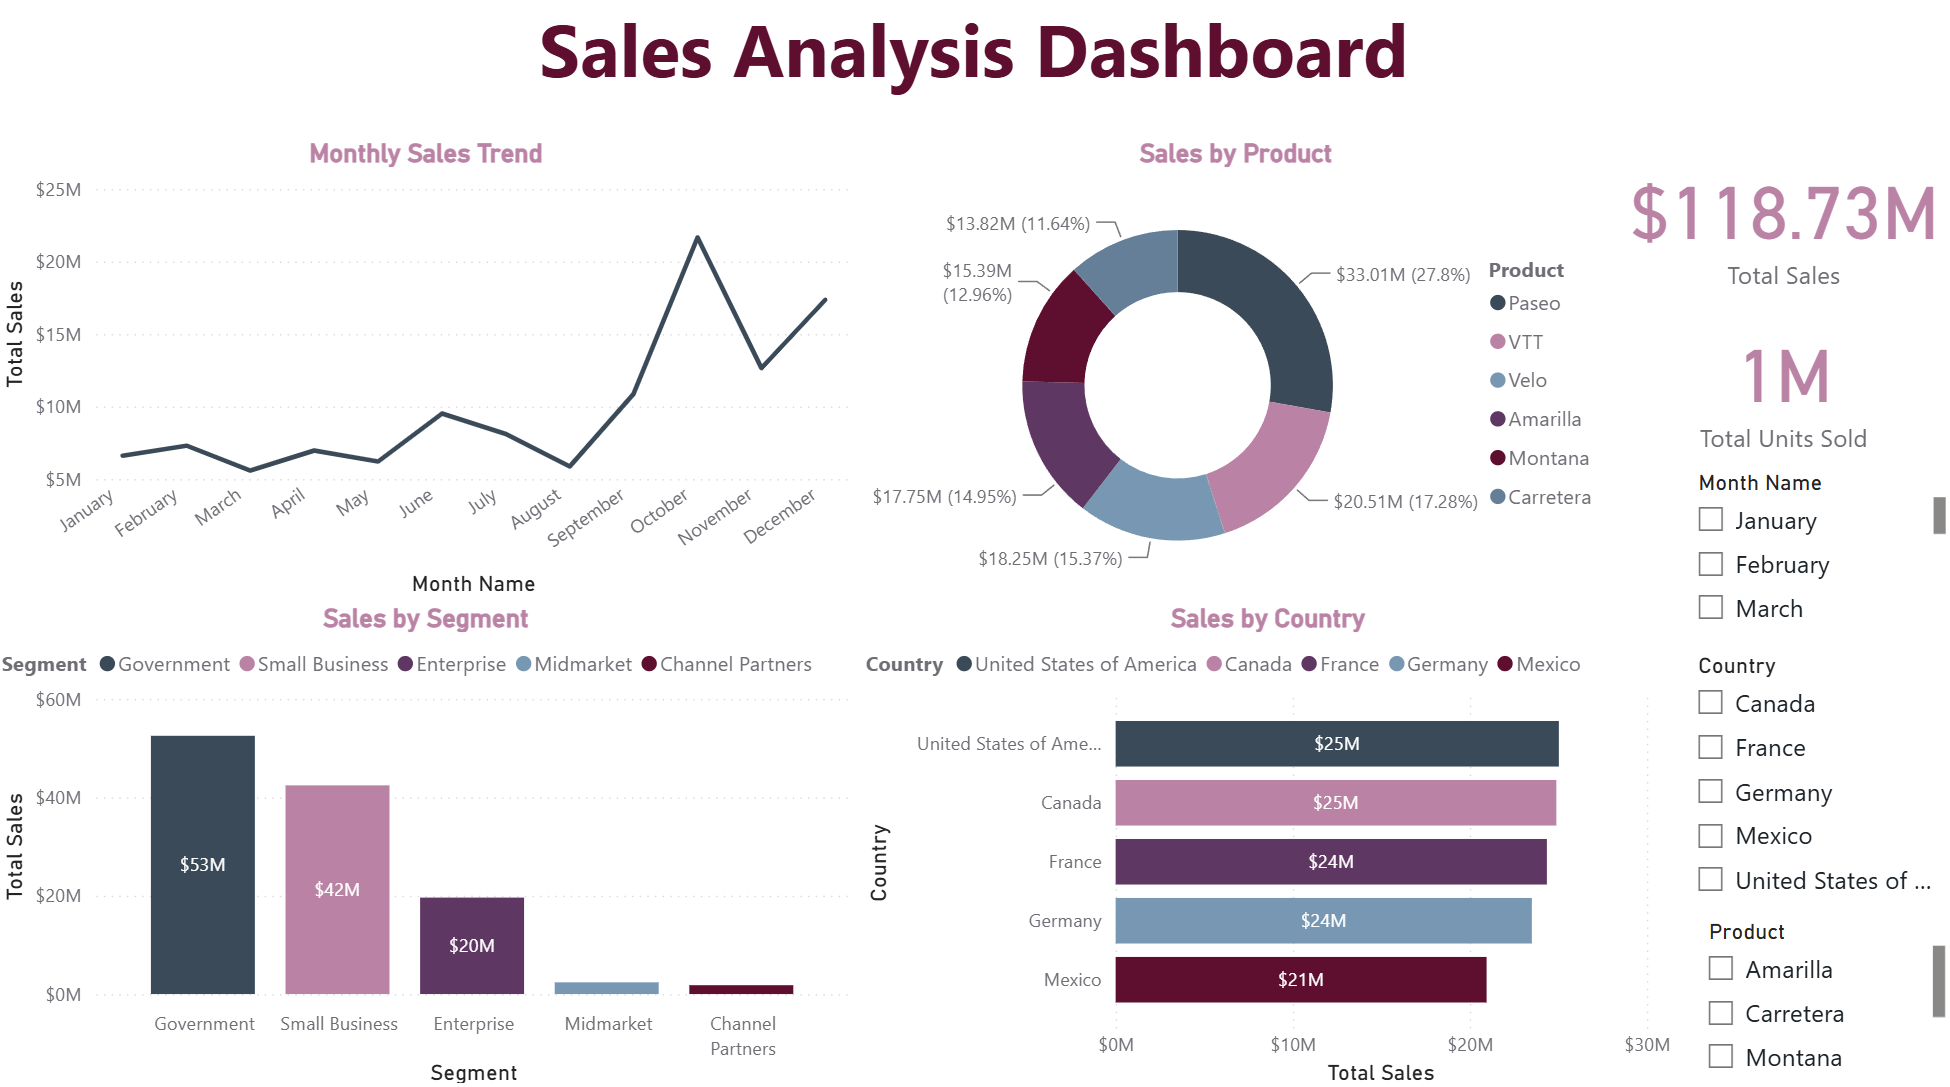

The dashboard page shown, as its layout file describes it:
{"tool":"powerbi","page":{"name":"Sales Analysis","canvas":[1280,720],"ordinal":1},"visuals":[{"type":"columnChart","title":"Sales by Segment","fields":{"Category":["Dim_Segment.Segment"],"Series":["Dim_Segment.Segment"],"Y":["Measures (2).Total Sales"]},"box":[0,400.8,564.5,319.5],"z":0},{"type":"barChart","title":"Sales by Country","fields":{"Category":["Dim_Country.Country"],"Series":["Dim_Country.Country"],"Y":["Measures (2).Total Sales"]},"box":[564.5,400.8,536.1,319.5],"z":1000},{"type":"lineChart","title":"Monthly Sales Trend","fields":{"Category":["Dim_Date.Month Name"],"Y":["Measures (2).Total Sales"]},"box":[0,97,564.5,303.8],"z":2000},{"type":"donutChart","title":"Sales by Product","fields":{"Category":["Dim_Product.Product"],"Y":["Measures (2).Total Sales"]},"box":[564.5,97,493.9,303.8],"z":3000},{"type":"textbox","box":[0,0,1280.4,76.5],"z":4000},{"type":"card","fields":{"Values":["Measures (2).Total Sales"]},"box":[1058.5,97,221.5,107.8],"z":5000},{"type":"card","fields":{"Values":["Measures (2).Total Units Sold"]},"box":[1058.5,204.8,221.5,104.9],"z":6000},{"type":"slicer","fields":{"Values":["Dim_Country.Country"]},"box":[1100.6,428.3,179.3,173.5],"z":7000},{"type":"slicer","fields":{"Values":["Dim_Product.Product"]},"box":[1107.5,601.8,172.5,118.6],"z":8000},{"type":"slicer","fields":{"Values":["Dim_Date.Month Name"]},"box":[1100.6,308.7,179.3,119.6],"z":9000}]}

Visuals, with their boxes in screenshot pixels (x1, y1, x2, y2), scaled from the page's 1280x720 canvas onto the 1950x1087 screenshot:
"Sales by Segment" columnChart: left=0, top=605, right=860, bottom=1086
"Sales by Country" barChart: left=860, top=605, right=1677, bottom=1086
"Monthly Sales Trend" lineChart: left=0, top=146, right=860, bottom=605
"Sales by Product" donutChart: left=860, top=146, right=1612, bottom=605
textbox: left=0, top=0, right=1949, bottom=115
card - Measures (2).Total Sales: left=1613, top=146, right=1949, bottom=309
card - Measures (2).Total Units Sold: left=1613, top=309, right=1949, bottom=468
slicer - Dim_Country.Country: left=1677, top=647, right=1949, bottom=909
slicer - Dim_Product.Product: left=1687, top=909, right=1949, bottom=1086
slicer - Dim_Date.Month Name: left=1677, top=466, right=1949, bottom=647
